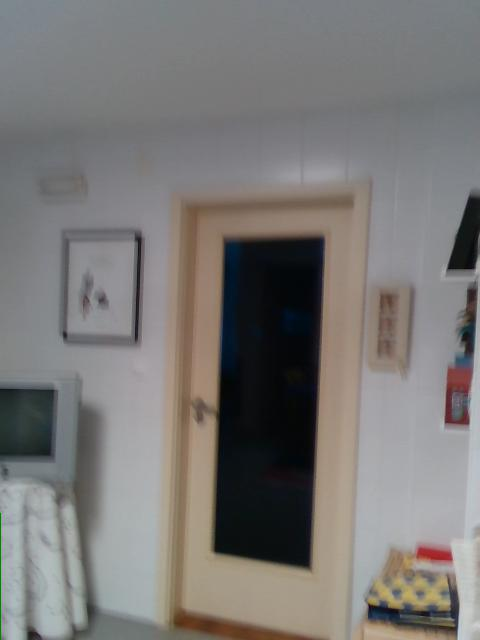closed_door: (160, 177, 371, 638)
